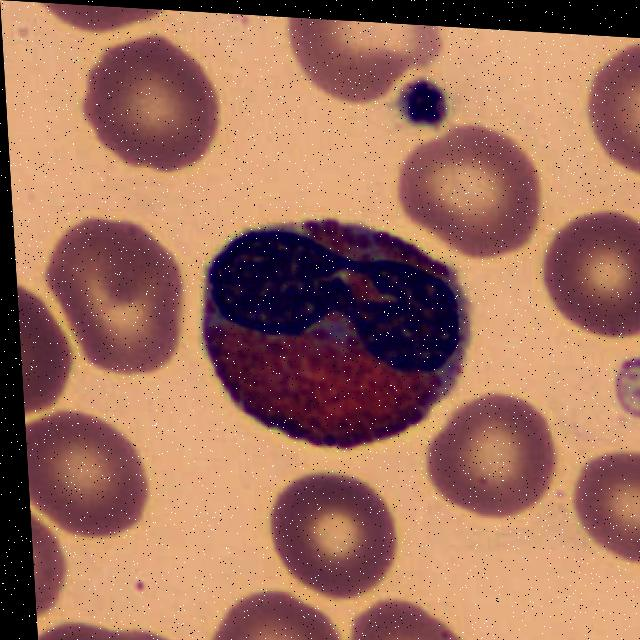eosinophil: (191, 190, 485, 464)
platelets: (391, 59, 458, 129)
rbc: (50, 29, 246, 181), (43, 213, 190, 374), (247, 463, 400, 599), (24, 412, 170, 550), (422, 386, 563, 520), (404, 128, 544, 262), (270, 16, 444, 102), (539, 211, 640, 342), (561, 436, 640, 568), (17, 281, 87, 429), (575, 36, 640, 191), (202, 580, 353, 640), (35, 599, 196, 640), (347, 591, 480, 640), (20, 1, 174, 43), (30, 514, 72, 622)
